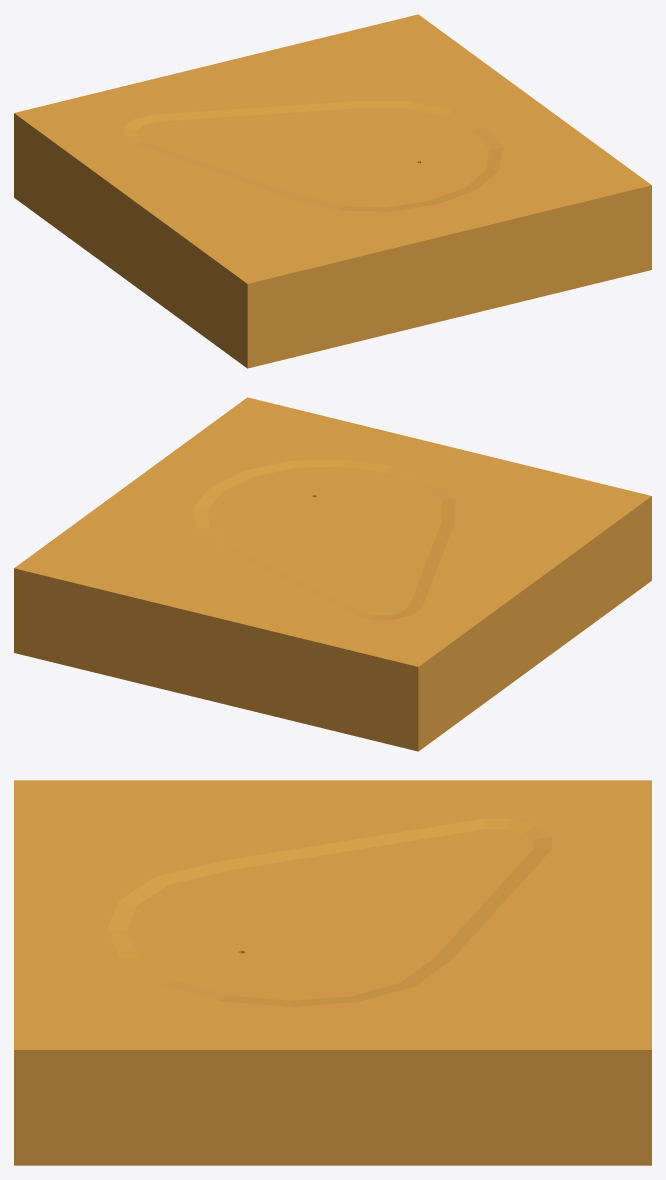
The model's file is tile-golf-green.glb.
The picture shows the model from 3 angles, top to bottom: view 1: azimuth 30°, elevation 25°; view 2: azimuth 150°, elevation 25°; view 3: azimuth 270°, elevation 25°; orthographic projection. The views are drawn at different scales.
Parts seen in each view (by area): view 1: tile-golf-green; view 2: tile-golf-green; view 3: tile-golf-green.
Part boxes in pixels (bbox=[...]): tile-golf-green: bbox=[14, 14, 651, 368]; tile-golf-green: bbox=[14, 397, 651, 751]; tile-golf-green: bbox=[14, 780, 651, 1165].
Bounding box in the file's own units: 30 × 6 × 30.
